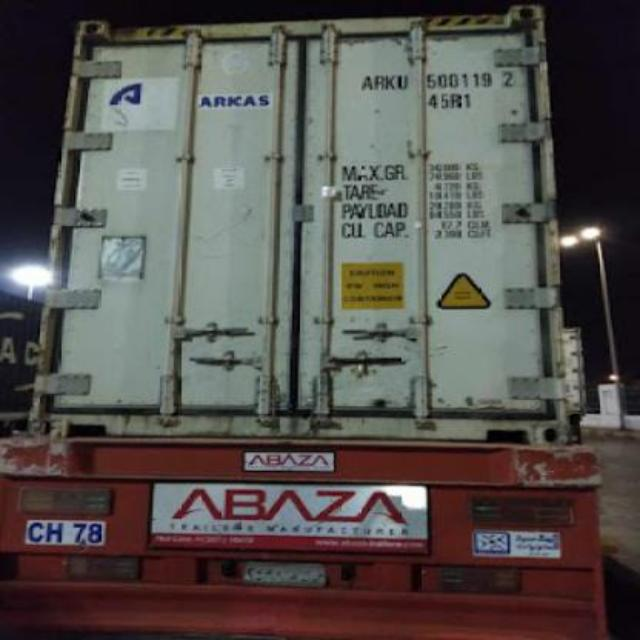0: (438, 73, 448, 91), (450, 72, 460, 90)
1: (470, 73, 482, 91), (460, 70, 468, 90)
2: (498, 70, 514, 86)
5: (426, 72, 438, 90)
9: (480, 68, 492, 90)
A: (362, 73, 374, 91)
K: (384, 73, 396, 91)
R: (372, 75, 386, 91)
U: (398, 73, 410, 91)
